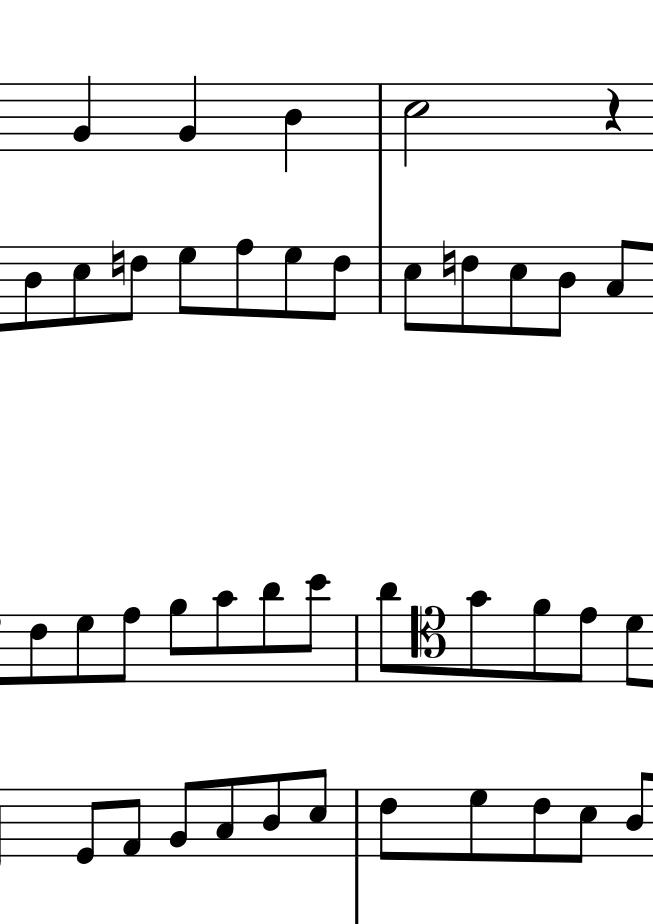2_5: (402, 82, 428, 168)
4_2: (71, 73, 94, 153), (177, 72, 199, 152)
4_4: (282, 81, 304, 177)
8_0: (73, 787, 102, 867)
8_1: (120, 787, 143, 860)
8_10: (466, 589, 490, 684), (212, 590, 236, 684)
8_11: (259, 581, 283, 684), (377, 581, 401, 684)
8_12: (300, 571, 331, 684)
8_2: (168, 780, 195, 859)
8_3: (604, 238, 632, 316), (213, 776, 236, 859)
8_4: (550, 245, 577, 340), (624, 769, 651, 859), (261, 772, 285, 858), (22, 245, 43, 332)
8_5: (569, 787, 598, 865), (307, 768, 330, 859), (507, 244, 528, 338), (401, 245, 423, 334), (70, 245, 91, 328)
8_6: (121, 246, 151, 324), (323, 244, 352, 323), (459, 245, 480, 337), (377, 786, 399, 862), (531, 786, 551, 865), (27, 613, 48, 687)
8_7: (467, 787, 489, 864), (282, 245, 303, 321), (73, 613, 95, 685), (176, 245, 198, 316), (624, 613, 644, 688)
8_8: (568, 606, 599, 685), (111, 605, 141, 685), (233, 238, 255, 320)
8_9: (167, 598, 189, 684), (531, 597, 552, 684)
Natural: (440, 238, 457, 287), (109, 239, 126, 287)
Rests4: (603, 86, 624, 134)
Single_barline: (349, 790, 366, 856), (372, 85, 389, 149), (349, 616, 365, 680), (373, 247, 388, 312)
Tensor_Cclef: (408, 604, 447, 683)
